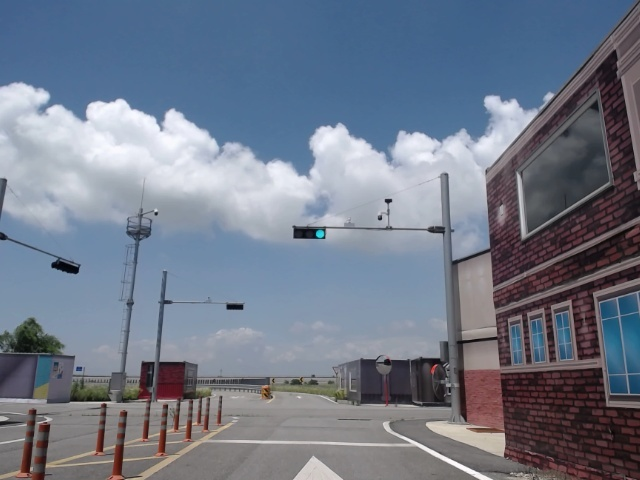green_3: (292, 228, 325, 238)
